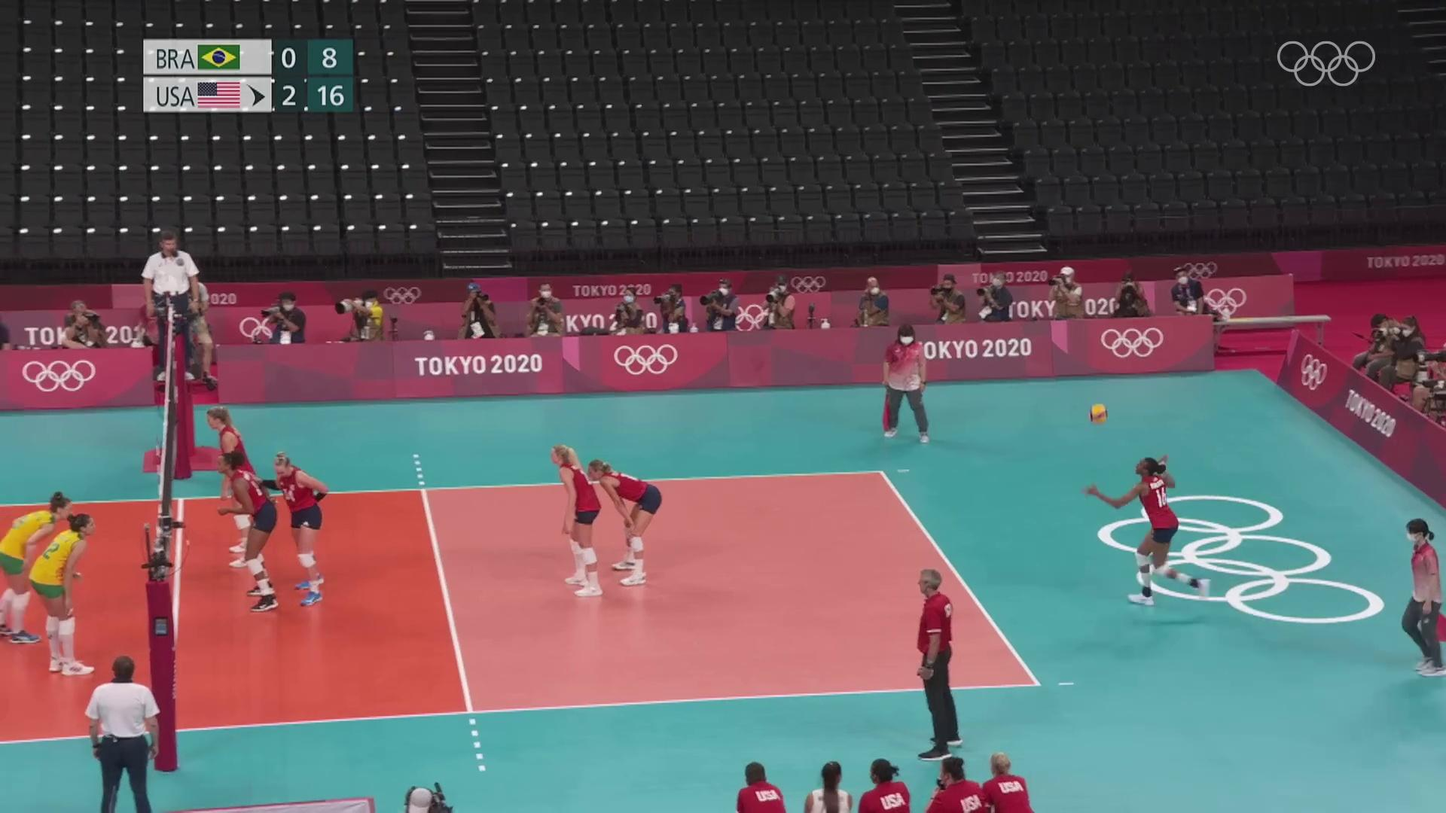player: (1090, 455, 1210, 606), (30, 513, 99, 678), (0, 490, 73, 644), (214, 452, 281, 619), (207, 407, 271, 569), (587, 455, 662, 591), (271, 452, 328, 607), (549, 445, 605, 600)
refree: (86, 657, 160, 810), (142, 232, 202, 379), (1401, 517, 1444, 674), (880, 324, 932, 446)
